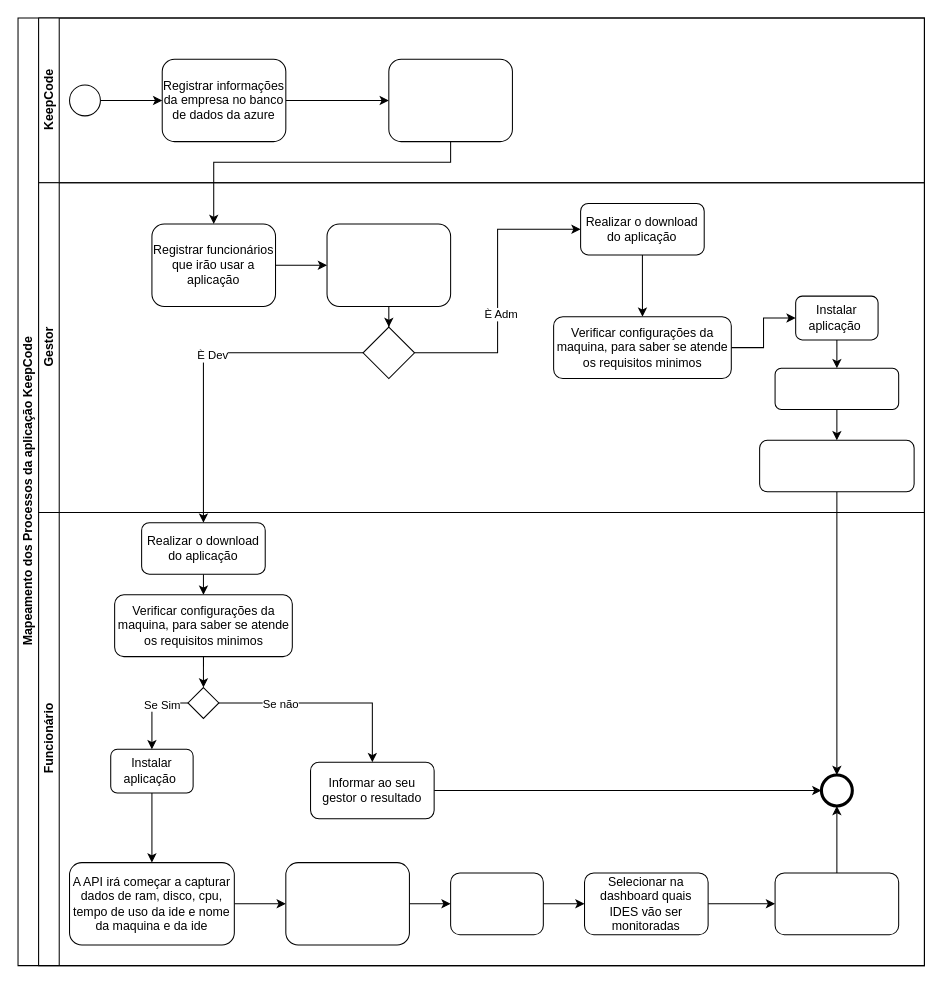
The diagram is 942 pixels wide and 984 high, and some of its shapes have lost their labels. Here are the shapes that lost their labels. From the top down, the centre of each, then its label:
At [450,100]: "Passar o acesso ao responsavel indicado".
At [388,264]: "Passar o acesso para esses funcionários".
At [836,388]: "Realizar login".
At [836,465]: "Visualizar na dashboard dados das maquinas dos funcionários".
At [347,903]: "A aplicação exibirá uma tela em java swing para que seja realizado o login".
At [496,903]: "Realizar login na aplicação".
At [836,903]: "Começar a visualizar os dados na dashboard".
